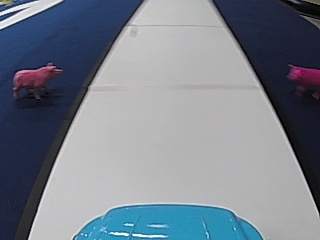pig: (11, 60, 61, 99), (284, 62, 318, 99)
